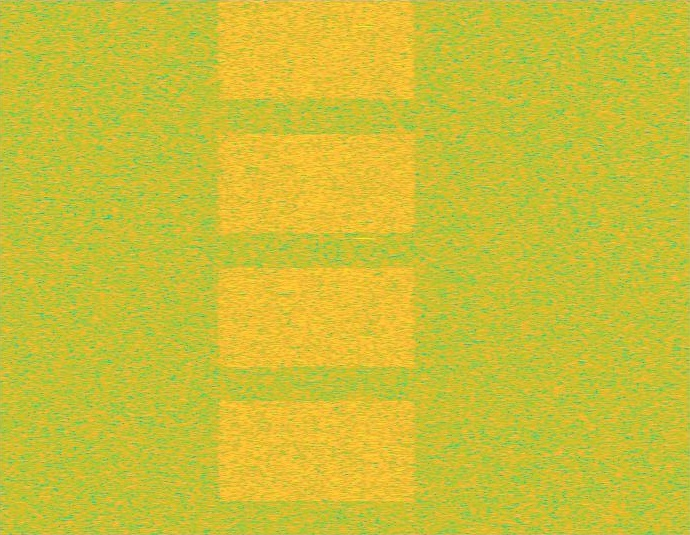5G: (213, 0, 420, 534)
Radar: (357, 0, 371, 534)
